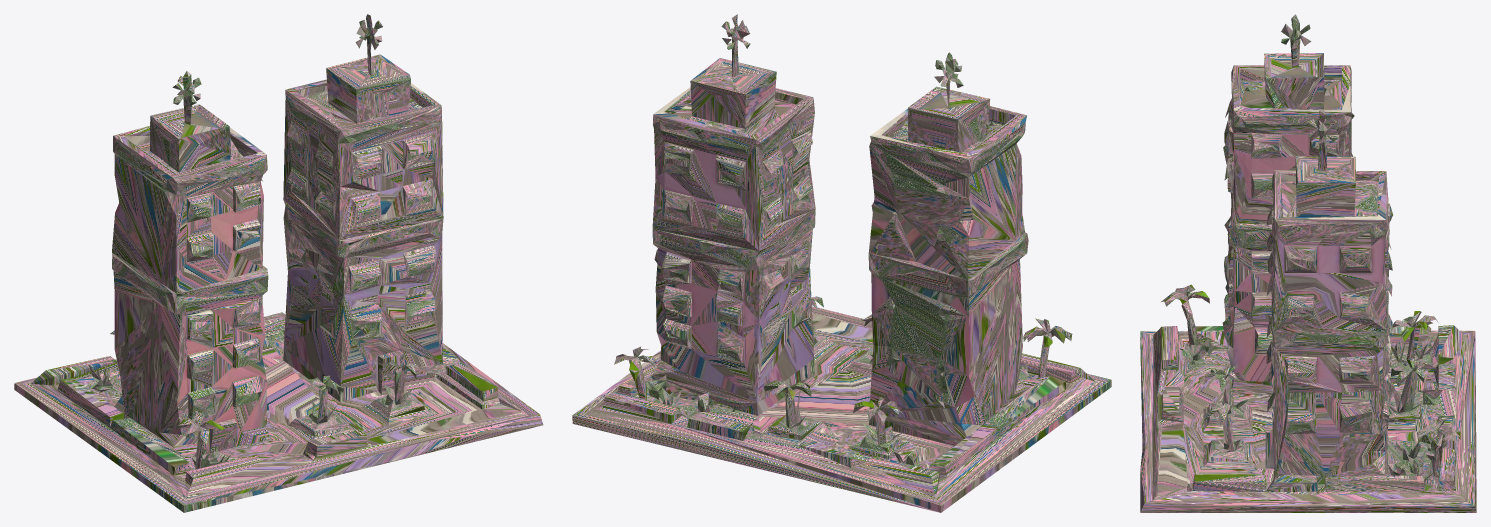
Rendered from town_flats_trop_2x1_6.glb.
3 views of the same model, side by side, from view 1: azimuth 30°, elevation 25°; view 2: azimuth 150°, elevation 25°; view 3: azimuth 270°, elevation 25° (orthographic). The views are drawn at different scales.
Visible parts, largest first — view 1: normalize; view 2: normalize; view 3: normalize.
Part boxes in pixels (bbox=[...]): normalize: bbox=[14, 14, 543, 512]; normalize: bbox=[572, 14, 1111, 512]; normalize: bbox=[1140, 14, 1476, 512].
Size of the model in its own units: 1 by 0.9673 by 0.8093.
1 material, 1 textured.
